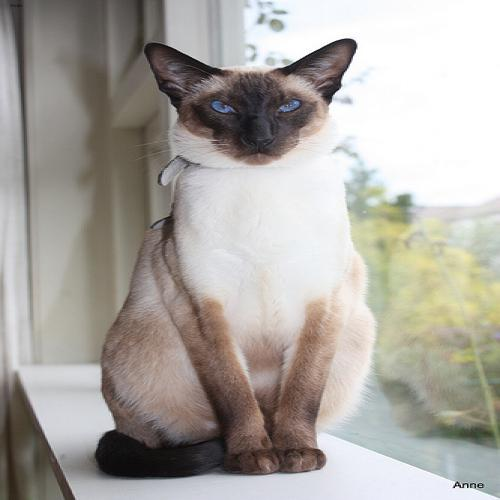siamese: (135, 20, 379, 176)
